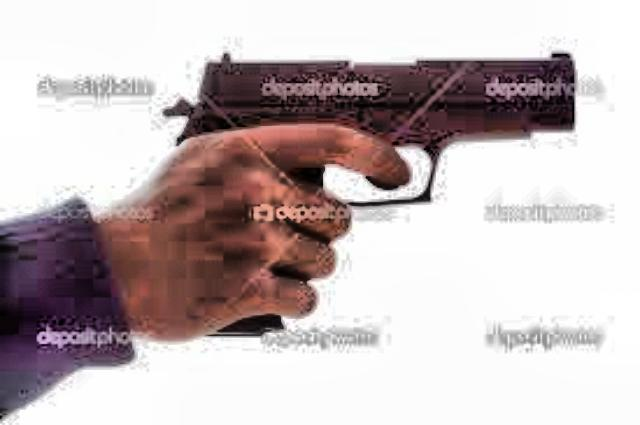pistol: (156, 40, 584, 340)
